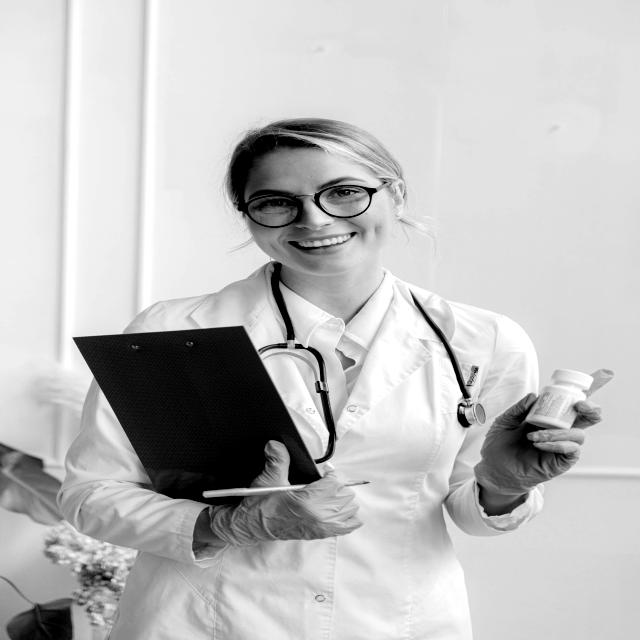No-Vest: (118, 309, 504, 640)
